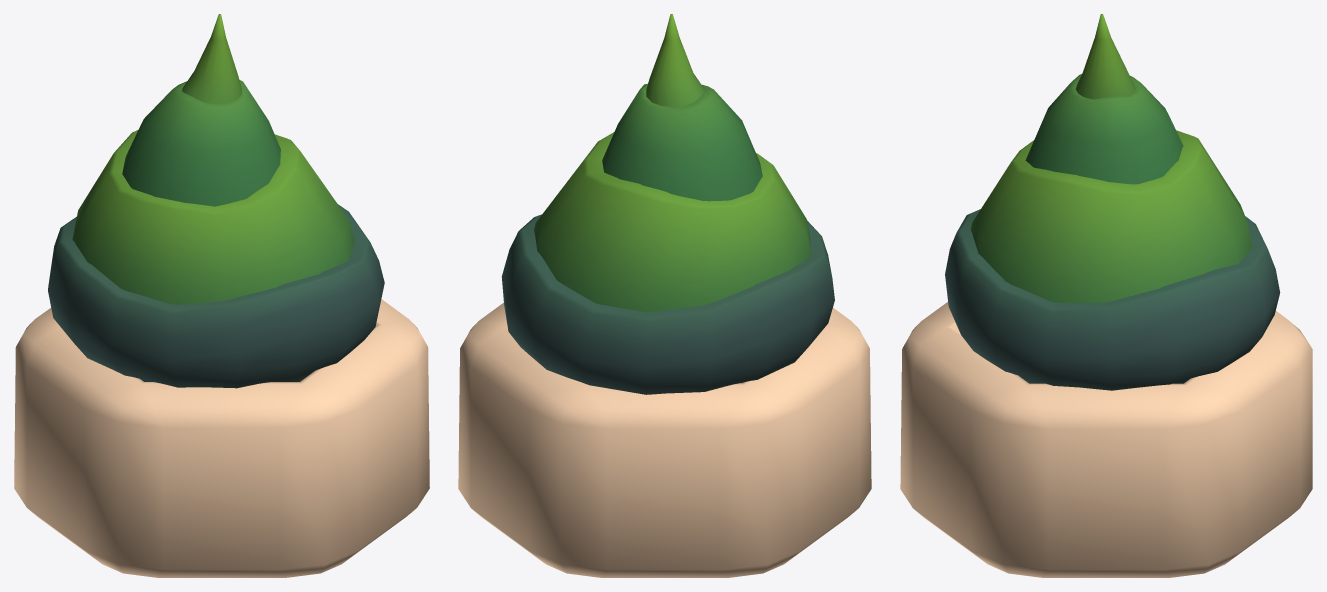
File: Plant.fbx
3 views of the same model, side by side, from view 1: azimuth 30°, elevation 25°; view 2: azimuth 150°, elevation 25°; view 3: azimuth 270°, elevation 25° (orthographic).
Visible parts, largest first — view 1: Cylinder; view 2: Cylinder; view 3: Cylinder.
Boxes of the visible parts, x1,y1,x2,y2 form: Cylinder: (14, 14, 429, 577); Cylinder: (458, 14, 871, 577); Cylinder: (900, 14, 1312, 577).
Bounding box in the file's own units: 1 × 1.43 × 1.08.
2 materials, 2 textured.
